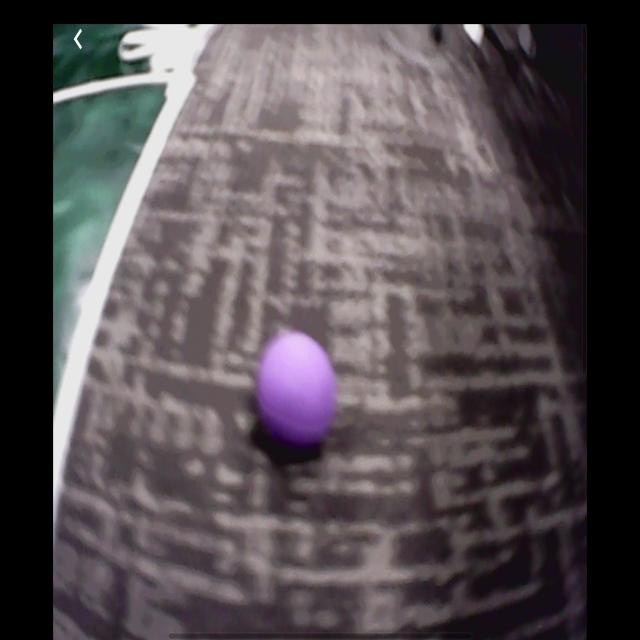ball: (262, 336, 336, 448)
